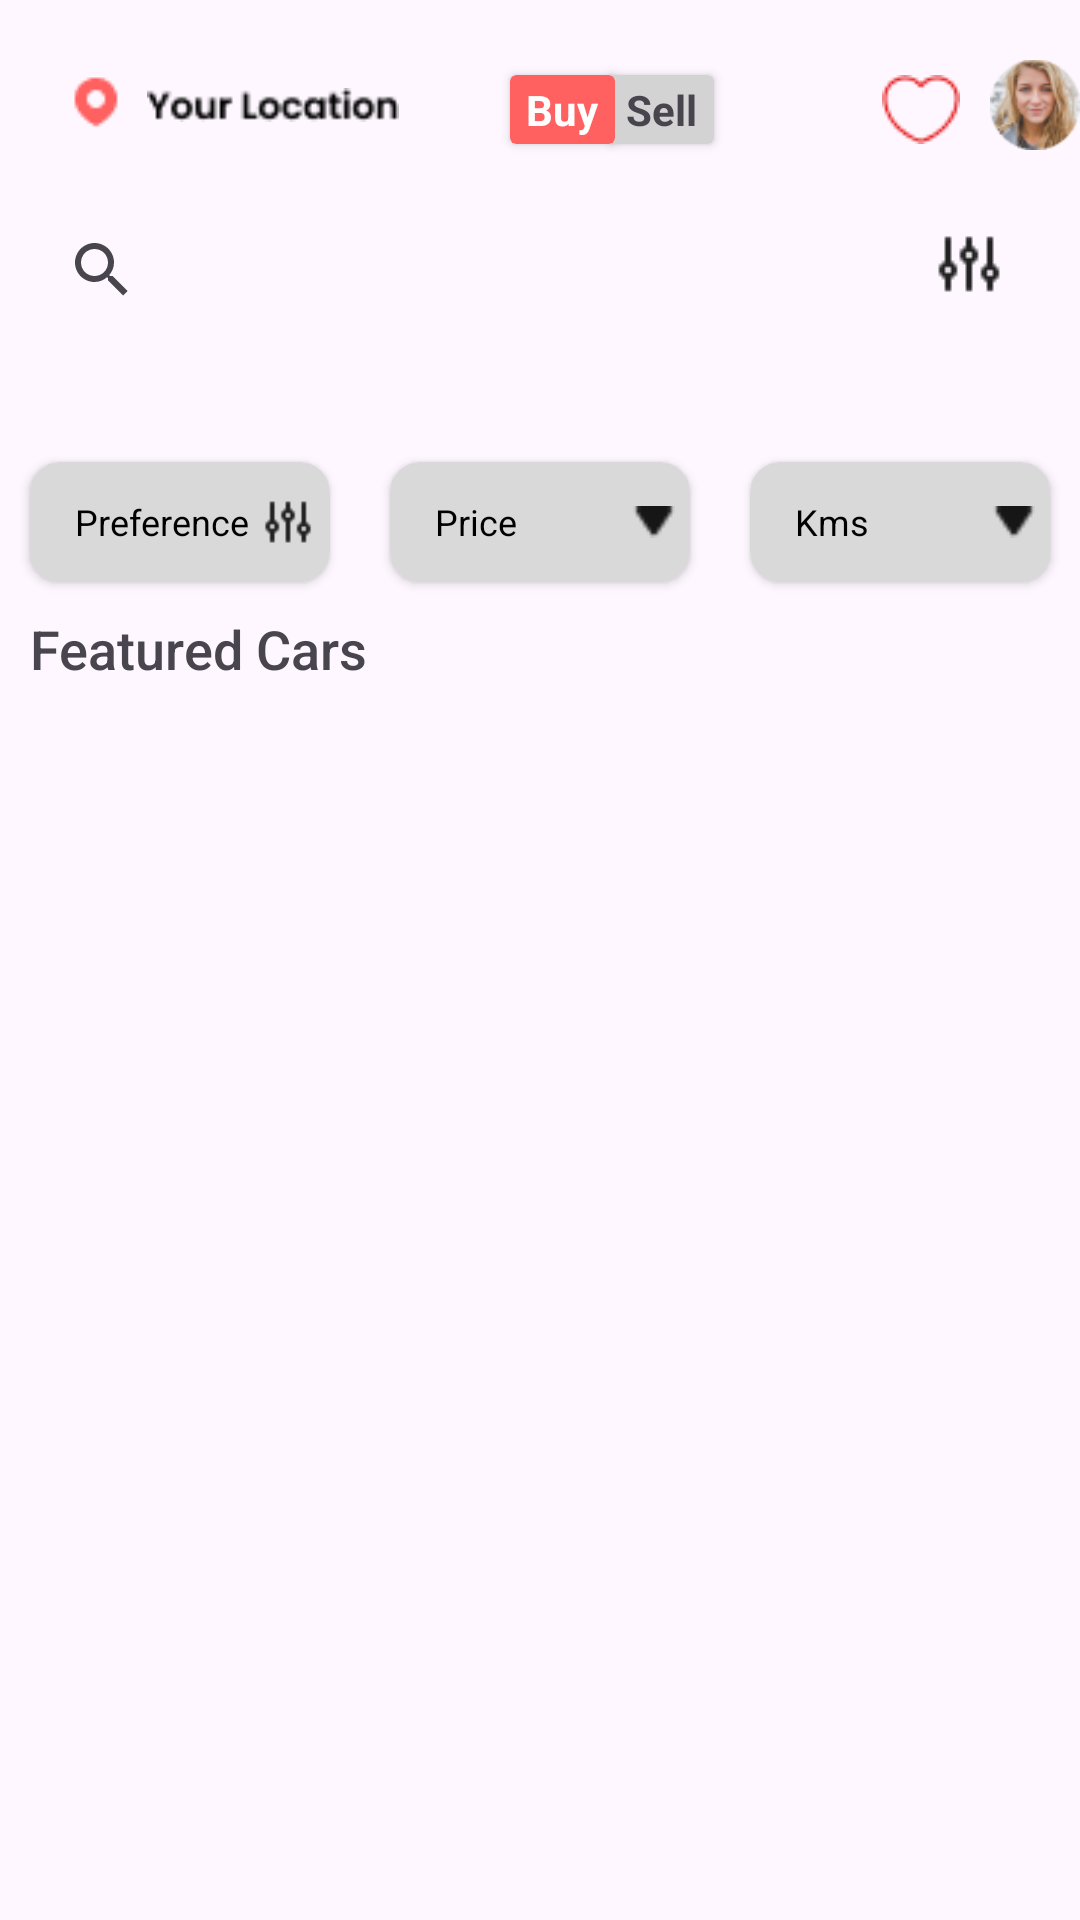

Point at icon controls on the screen. Image size 1080px x 1920px, points as (x=x, y=y).
face: (x=1035, y=105)
filter: (x=969, y=264), (x=288, y=522)
love: (x=921, y=109)
pin: (x=96, y=102)
polygon: (x=654, y=521), (x=1014, y=521)
